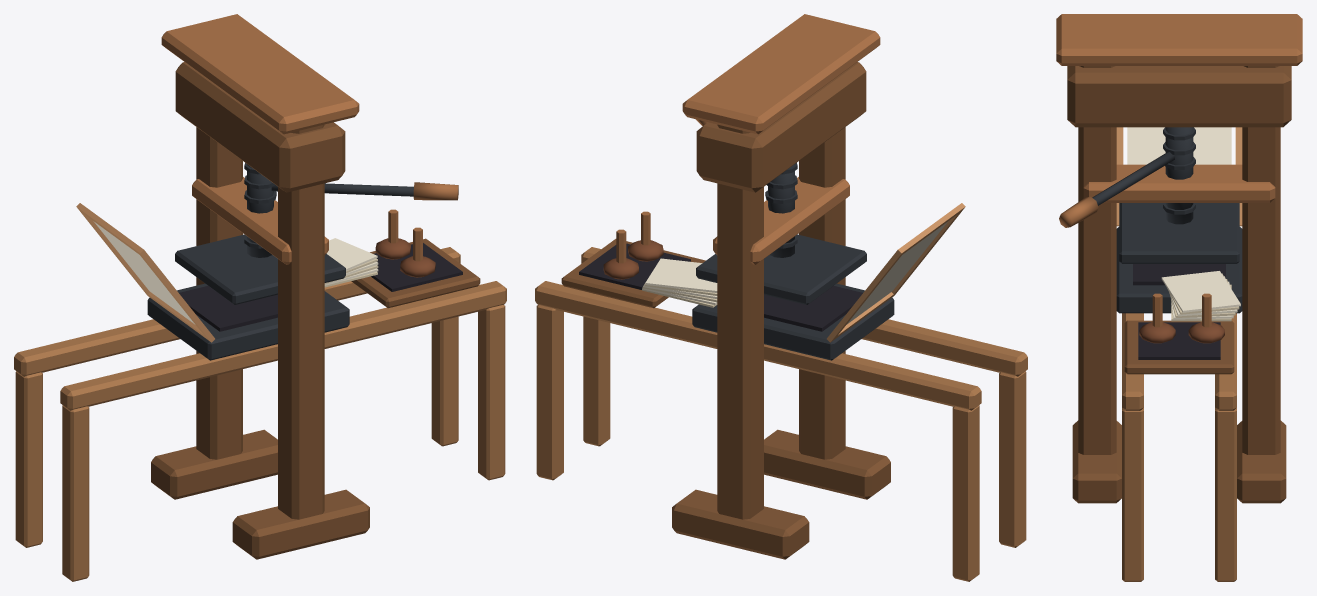
Rendered from printing_press.glb.
3 renders of one model, left to right at view 1: azimuth 30°, elevation 25°; view 2: azimuth 150°, elevation 25°; view 3: azimuth 270°, elevation 25°, orthographic.
Visible parts, largest first — view 1: printing_press; view 2: printing_press; view 3: printing_press.
Part boxes in pixels (x1,y1,x2,y2): printing_press: (14,14,506,581); printing_press: (535,14,1027,581); printing_press: (1056,14,1302,581).
Size of the model in its own units: 1.86 by 1.79 by 0.9.
